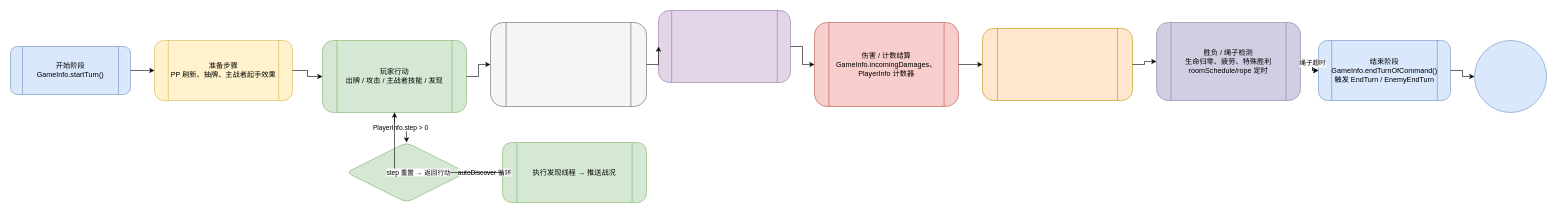
Some shapes in this 1557 by 213 pixel diagram are drawn without their labels. The shapes that lost their labels are listed below. From the top down, each one's centre as x and y in pixels, then its label:
At [568,64]: "指令校验 GameHandler.play/attack/... PlayerInfo 检查（PP、目标、卡槽）".
At [724,46]: "效果队列 GameInfo.effectInstances FIFO".
At [1057,64]: "战场更新 AreaCard 状态、死亡、墓地计数、连锁触发".
At [1510,76]: "对手回合".
